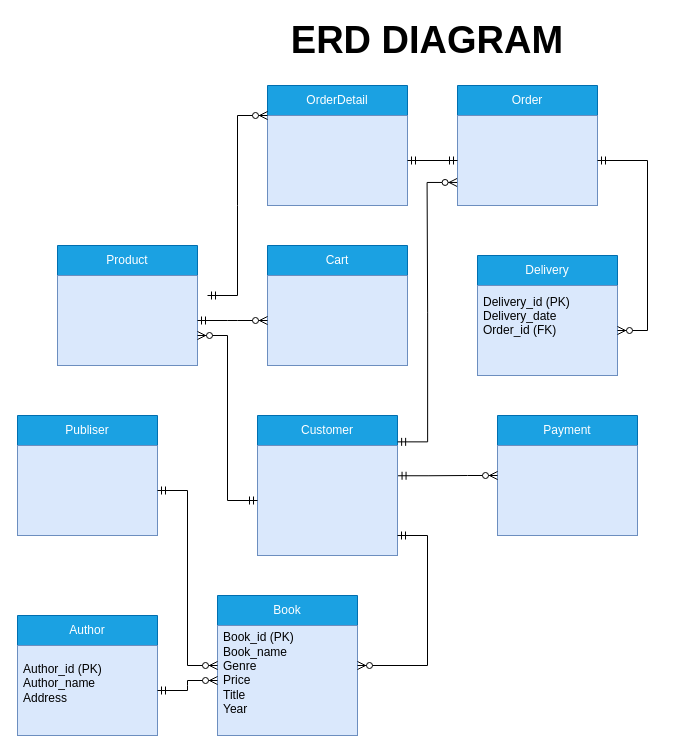
This 674x753 diagram has some shape labels left out. The centre of each missing label's shape, as x and y in pixels:
"Cart_id (PK) Product_id (FK) Order_id (FK) Quantity" goes at point (337, 320).
"Customer_id (PK) First_name Last_name Email Password Address Phone_number" goes at point (327, 500).
"Order_id (PK) Customer_id (FK) Order_date Order_total_price" goes at point (527, 160).
"OrderDetail_id (PK) Order_id (FK) Product_id (FK) Quantity Price" goes at point (337, 160).
"Payment_id (PK) Customer_id (FK) Payment_date Payment_Total" goes at point (567, 490).
"Product_id (PK) Customer_id (FK) Description Price" goes at point (127, 320).
"Publisher_id (PK) Publisher_name Address Phone_number" goes at point (87, 490).
